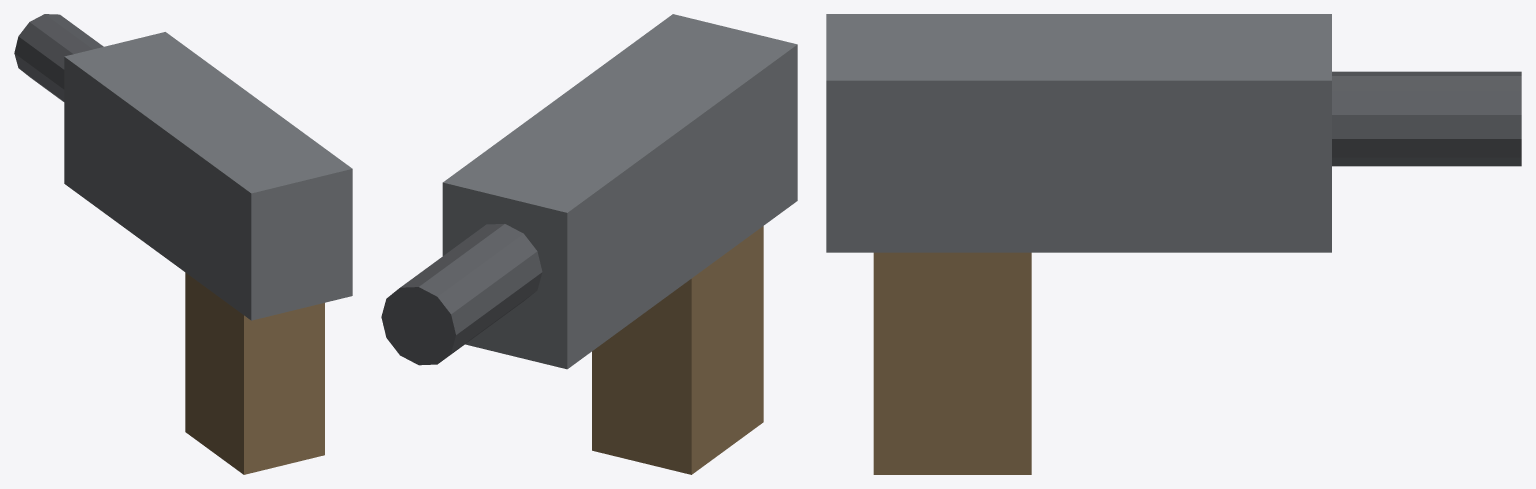
The model's file is pistol.glb.
3 views of the same model, side by side, from view 1: azimuth 30°, elevation 25°; view 2: azimuth 150°, elevation 25°; view 3: azimuth 270°, elevation 25° (orthographic). The views are drawn at different scales.
Visible parts, largest first — view 1: geometry_0; view 2: geometry_0; view 3: geometry_0.
Part boxes in pixels (bbox=[...]): geometry_0: bbox=[14, 14, 352, 474]; geometry_0: bbox=[381, 14, 797, 474]; geometry_0: bbox=[826, 14, 1521, 474].
Size of the model in its own units: 0.1 by 0.28 by 0.44.
